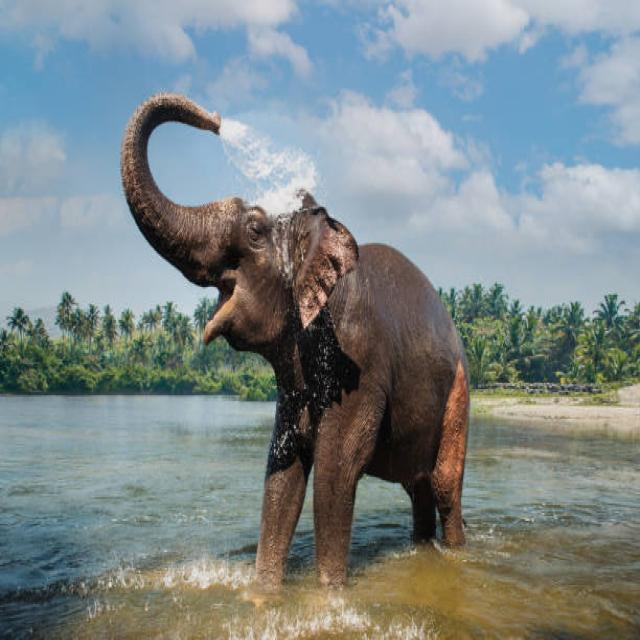Elephant: (117, 82, 484, 591)
